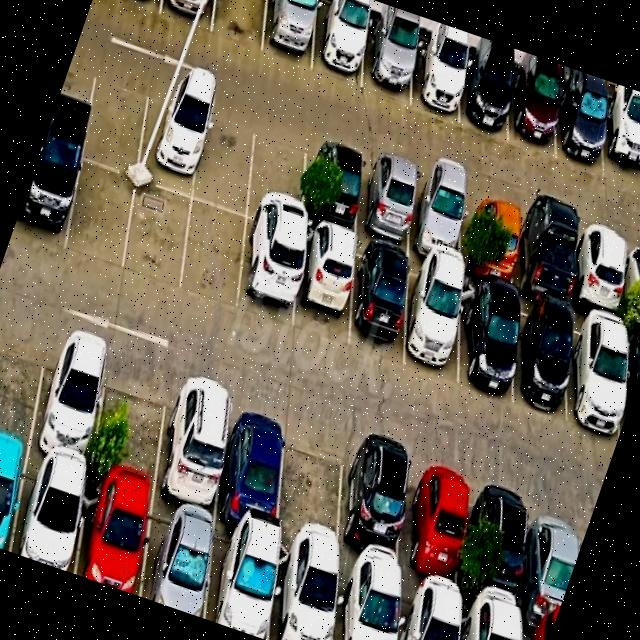empty: (91, 347, 171, 498), (277, 413, 346, 561), (81, 61, 150, 176), (65, 160, 136, 271), (123, 180, 191, 293), (180, 200, 246, 310), (246, 118, 308, 235), (192, 101, 255, 216), (0, 309, 50, 451), (211, 0, 267, 52)
occupied: (27, 325, 110, 474), (154, 369, 232, 519), (216, 390, 289, 537), (339, 432, 410, 582), (401, 451, 467, 602), (470, 473, 531, 621), (11, 456, 86, 574), (75, 478, 150, 596), (139, 500, 214, 618), (204, 522, 277, 640), (136, 81, 206, 198), (523, 491, 580, 630), (11, 141, 82, 252), (293, 224, 355, 346), (348, 242, 408, 362), (567, 310, 622, 436), (404, 260, 459, 384), (237, 221, 298, 329), (269, 543, 336, 640), (513, 296, 567, 416), (459, 280, 511, 403), (302, 136, 363, 236), (516, 205, 570, 308), (358, 154, 413, 251), (464, 188, 516, 287), (410, 169, 463, 266), (311, 0, 368, 87), (507, 66, 559, 158), (334, 567, 399, 640), (555, 81, 603, 177), (458, 53, 510, 141), (576, 223, 621, 319), (361, 20, 413, 103), (410, 36, 460, 122), (262, 0, 317, 70), (602, 99, 640, 191), (397, 584, 458, 640), (0, 447, 27, 551), (460, 604, 520, 640), (159, 0, 215, 31), (623, 327, 640, 423), (624, 238, 640, 324), (521, 622, 552, 640)
